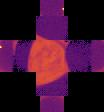earth: (28, 34, 70, 87)
